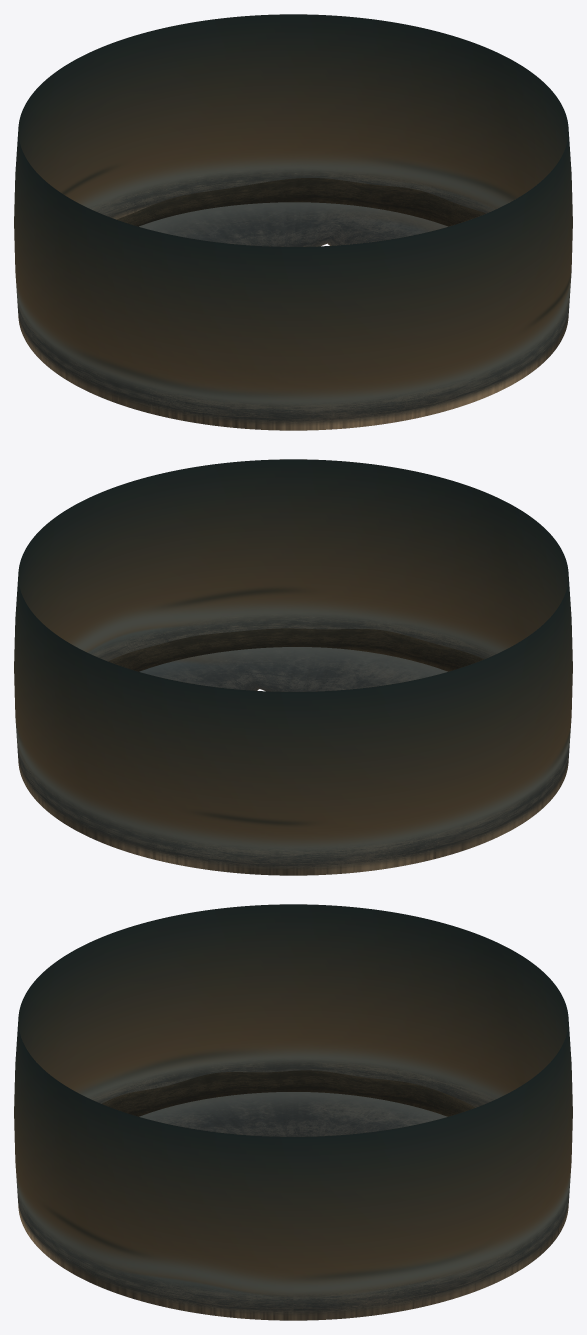
Rendered from showroom-panorama.glb.
The picture shows the model from 3 angles, top to bottom: view 1: azimuth 30°, elevation 25°; view 2: azimuth 150°, elevation 25°; view 3: azimuth 270°, elevation 25°; orthographic projection.
Parts seen in each view (by area): view 1: ShowroomPanorama; view 2: ShowroomPanorama; view 3: ShowroomPanorama.
Boxes of the visible parts, <box> form: ShowroomPanorama: <box>14,14,572,430</box>; ShowroomPanorama: <box>14,459,572,875</box>; ShowroomPanorama: <box>14,904,572,1320</box>.
Size of the model in its own units: 386 by 140 by 386.
Materials: 1 (1 with a texture image).
